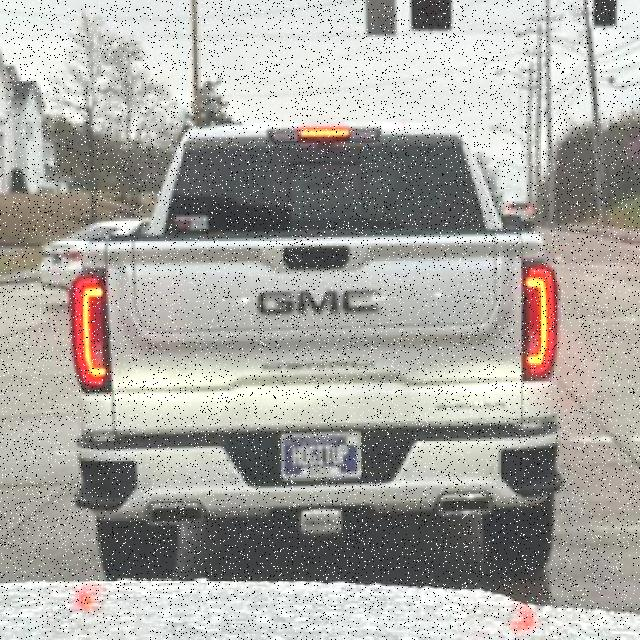licenseplate: (279, 430, 363, 481)
